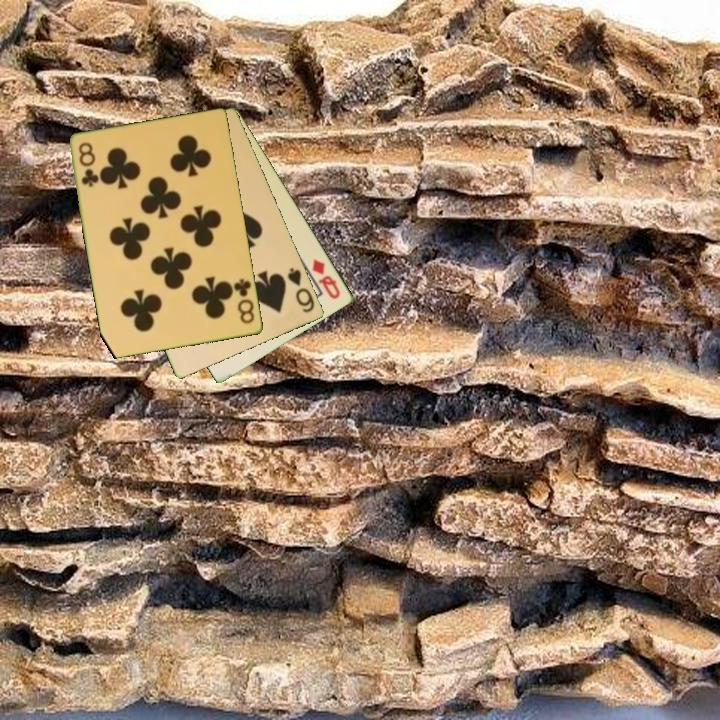6s: (284, 264, 318, 316)
8c: (230, 275, 257, 327), (75, 139, 101, 190)
Qd: (309, 256, 344, 302)
